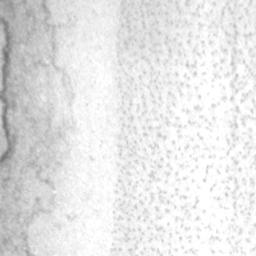Pitted surface: (111, 0, 256, 256), (0, 0, 76, 201), (0, 197, 51, 256), (21, 141, 54, 189), (66, 215, 77, 222)
